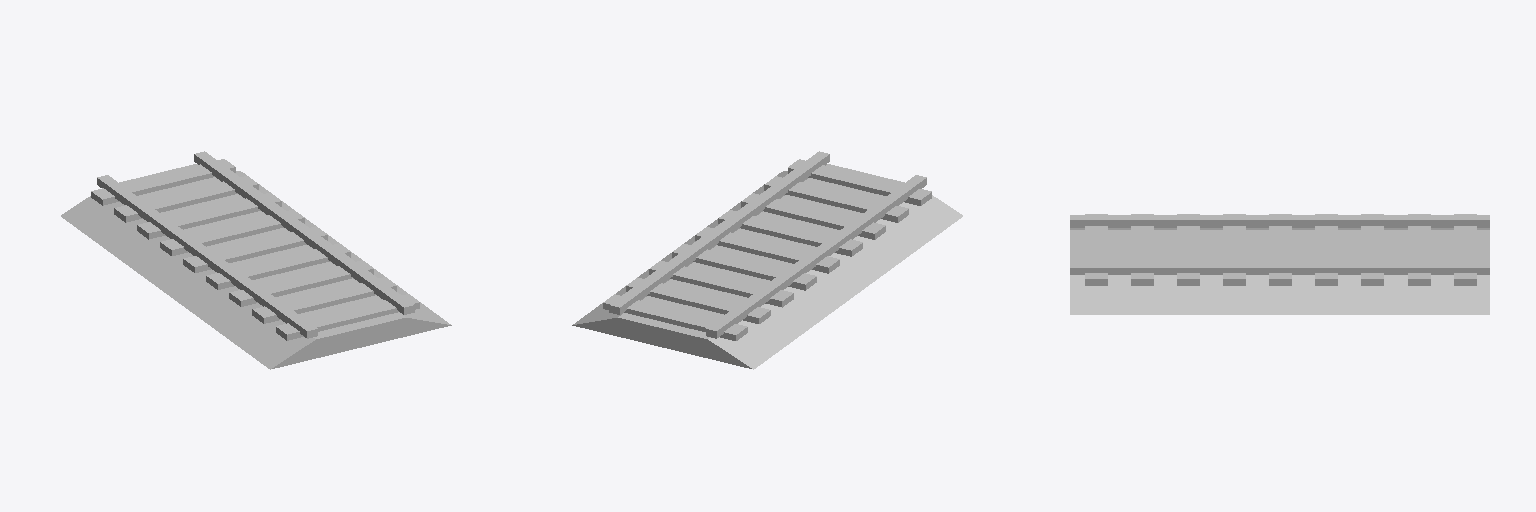
Rendered from SM_Env_Track_Straight_01.obj.
3 renders of one model, left to right at view 1: azimuth 30°, elevation 25°; view 2: azimuth 150°, elevation 25°; view 3: azimuth 270°, elevation 25°, orthographic.
Parts seen in each view (by area): view 1: SM_Env_Track_Straight_01:Mesh; view 2: SM_Env_Track_Straight_01:Mesh; view 3: SM_Env_Track_Straight_01:Mesh.
Part boxes in pixels (x1,y1,x2,y2): SM_Env_Track_Straight_01:Mesh: (61, 151, 451, 369); SM_Env_Track_Straight_01:Mesh: (572, 151, 962, 369); SM_Env_Track_Straight_01:Mesh: (1070, 214, 1489, 314).
Bounding box in the file's own units: 5 × 0.7719 × 10.